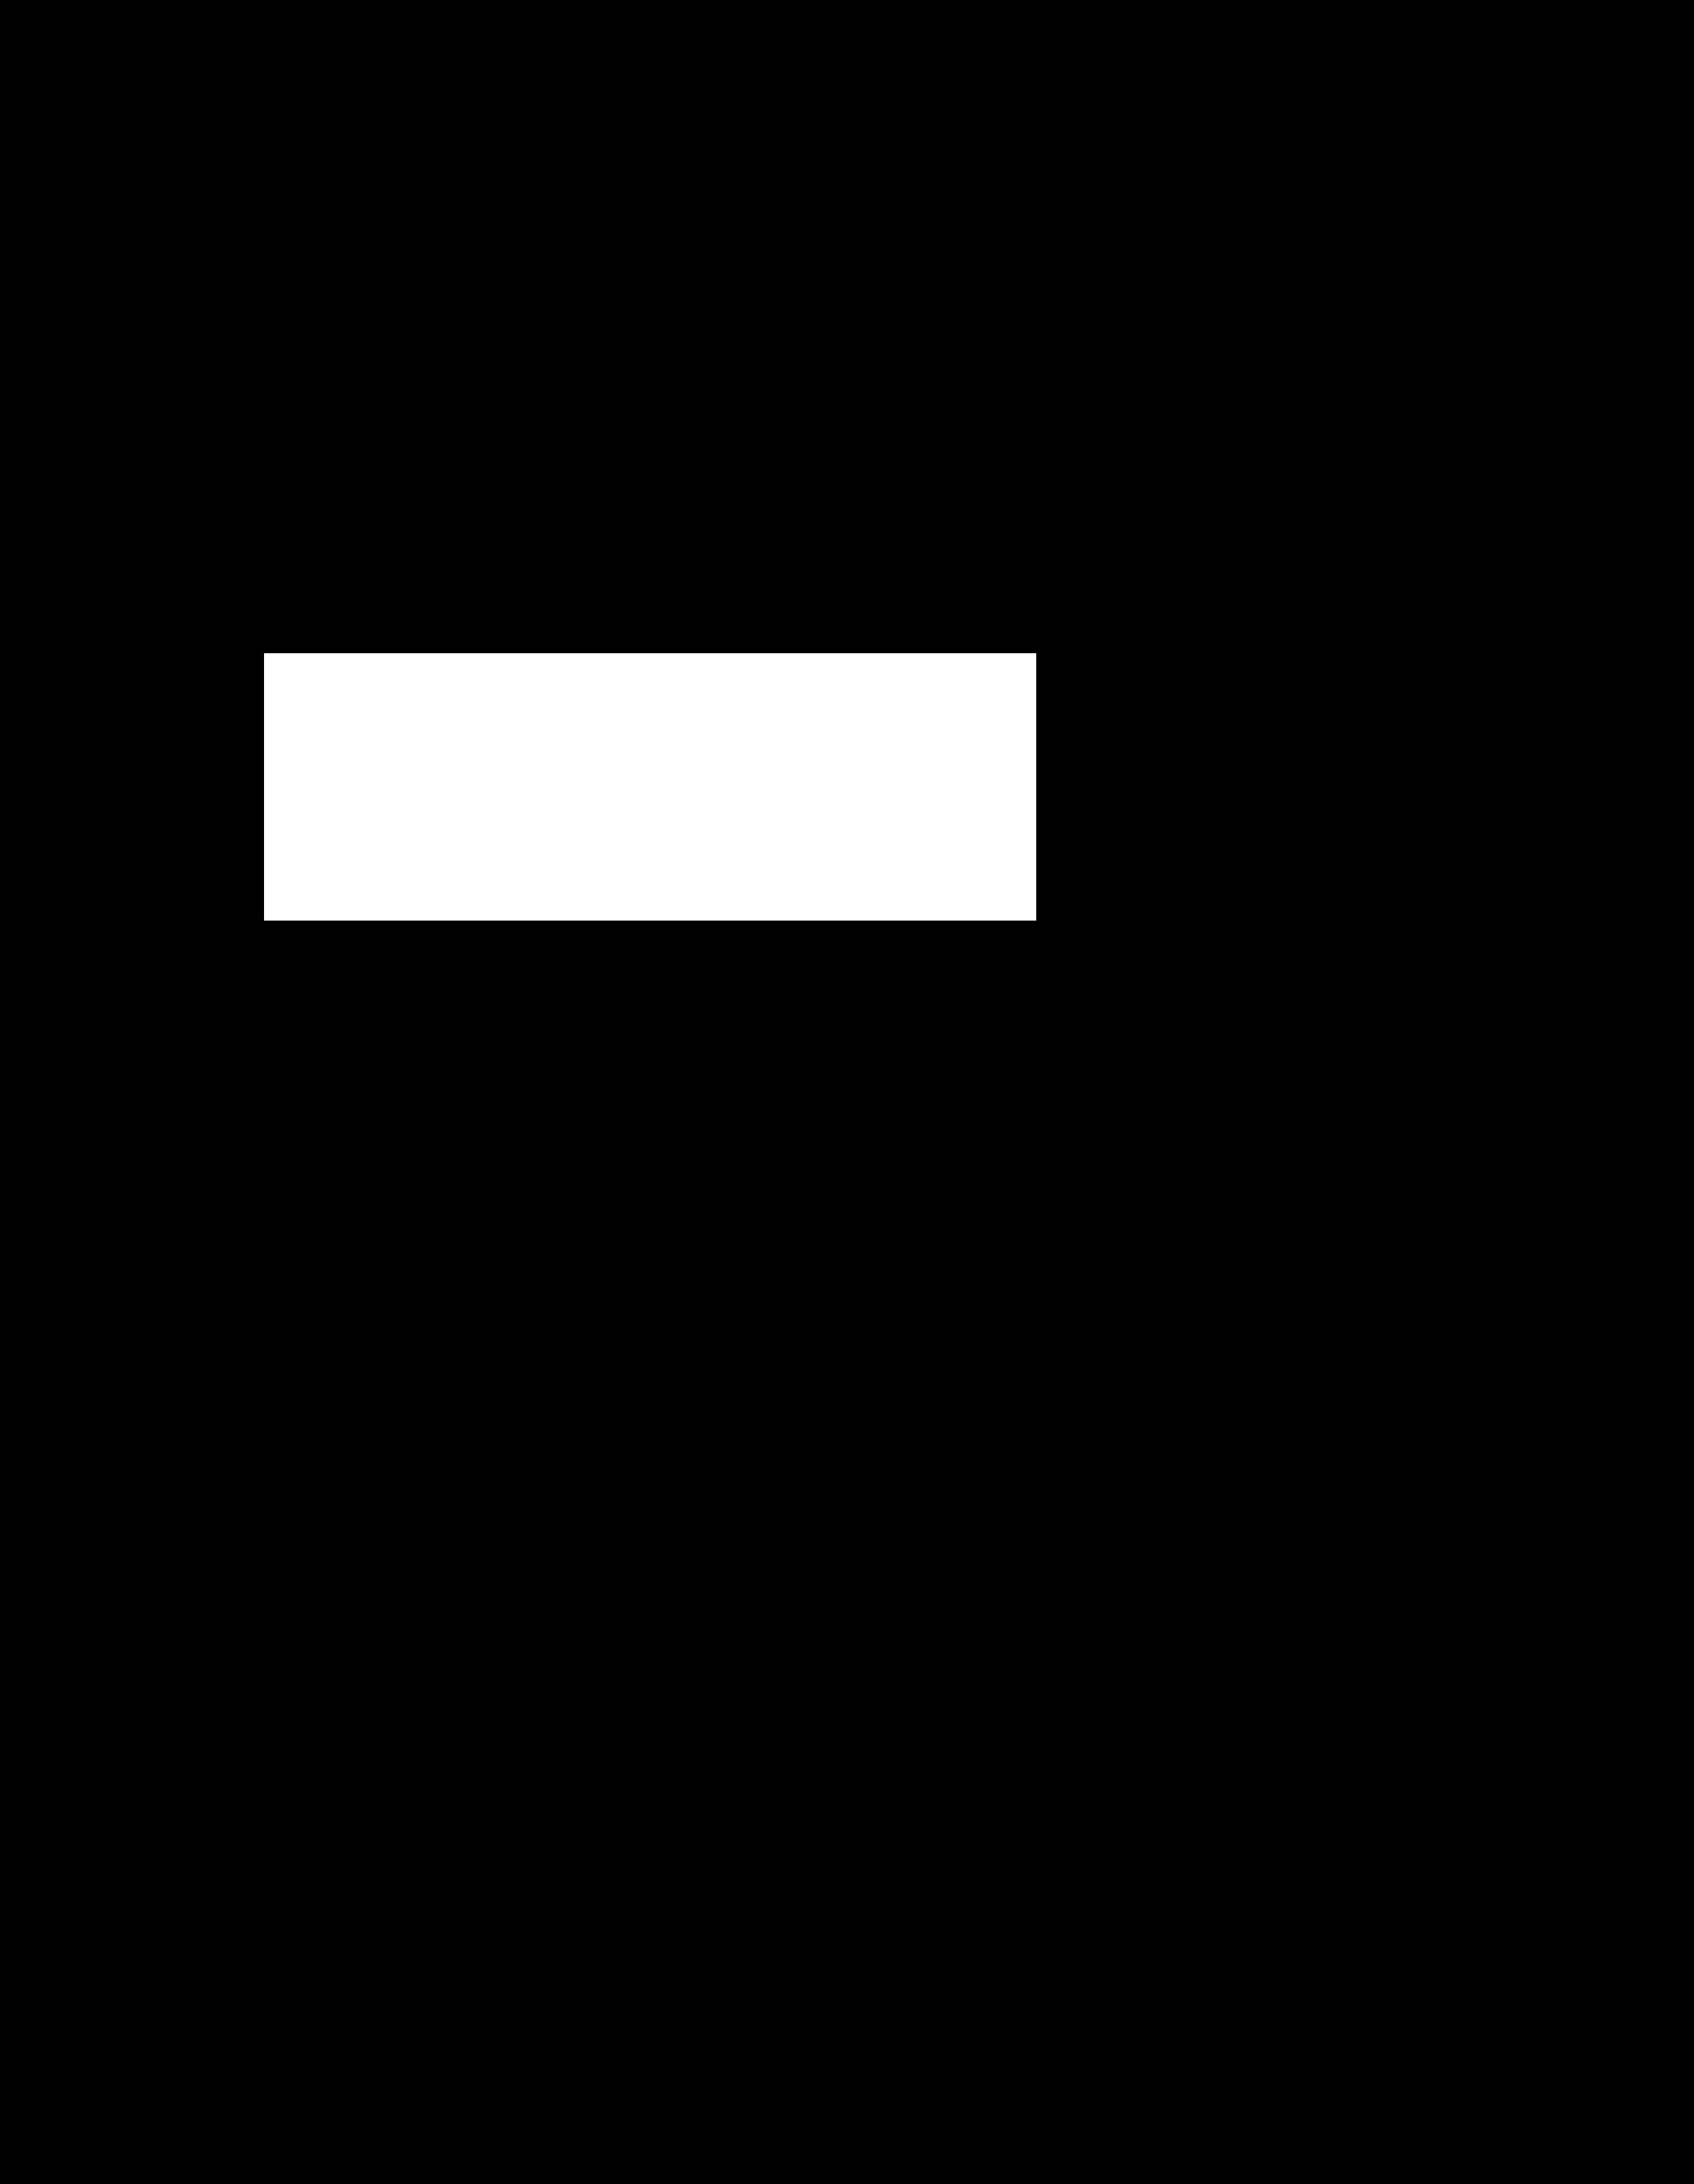table: (264, 652, 1035, 920)
